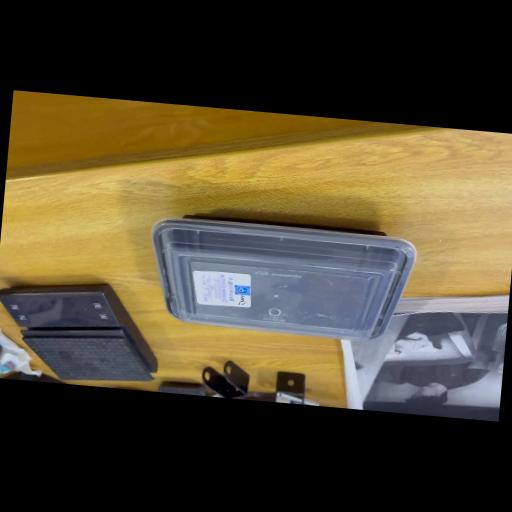rigid_plastic_container: (139, 202, 422, 348)
